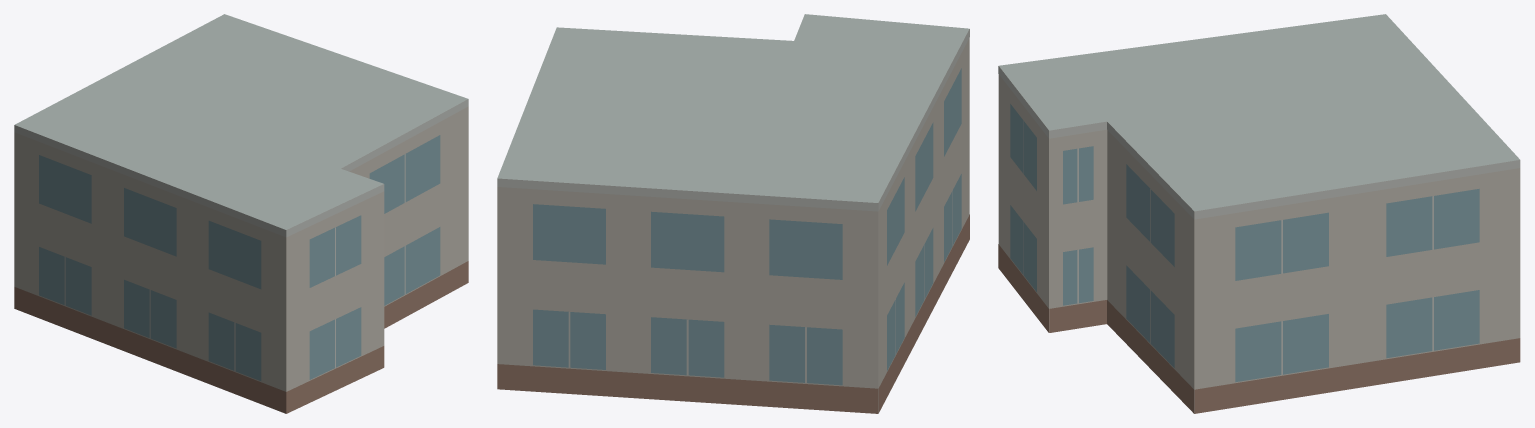
File: survey-upis-32835776.glb
3 views of the same model, side by side, from view 1: azimuth 30°, elevation 25°; view 2: azimuth 150°, elevation 25°; view 3: azimuth 270°, elevation 25° (orthographic). The views are drawn at different scales.
Parts seen in each view (by area): view 1: survey-upis-32835776.tmp; view 2: survey-upis-32835776.tmp; view 3: survey-upis-32835776.tmp.
Part boxes in pixels (<box>): survey-upis-32835776.tmp: <box>14,14,468,413</box>; survey-upis-32835776.tmp: <box>497,14,969,413</box>; survey-upis-32835776.tmp: <box>998,14,1520,413</box>.
Size of the model in its own units: 12.77 by 6.1 by 14.26.
